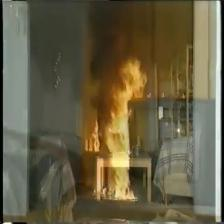fire: (84, 62, 145, 201)
